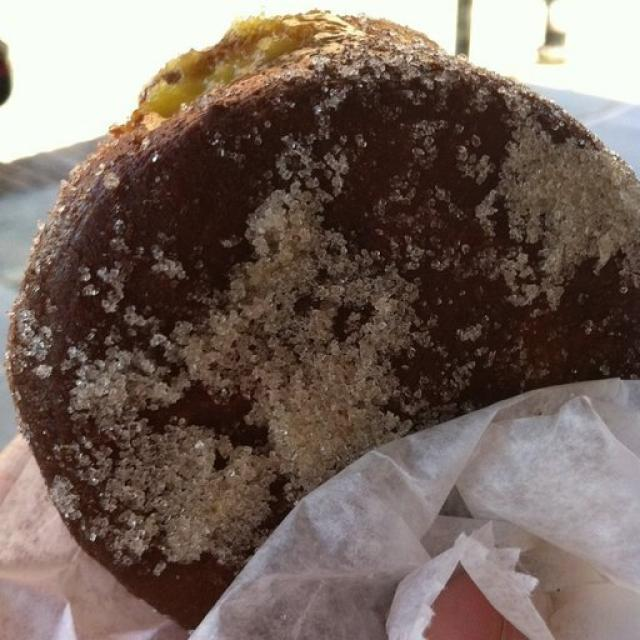Donuts: (7, 9, 640, 600)
